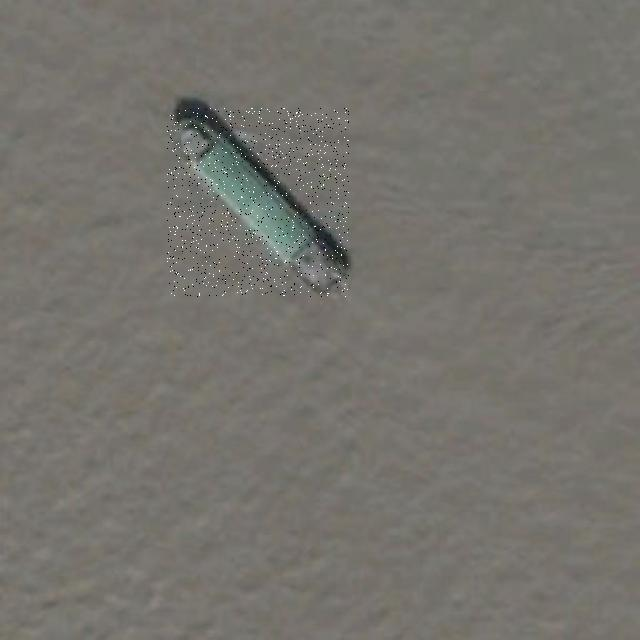boat: (167, 108, 349, 297)
